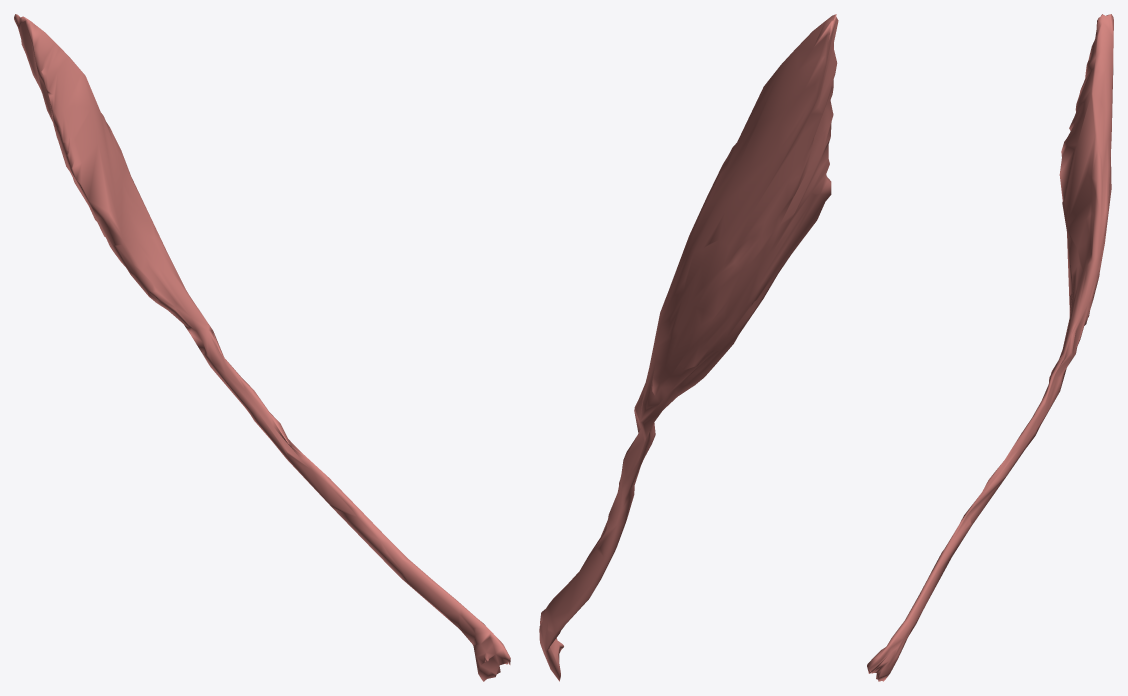
The picture shows the model from 3 angles, left to right: view 1: azimuth 30°, elevation 25°; view 2: azimuth 150°, elevation 25°; view 3: azimuth 270°, elevation 25°; orthographic projection. The views are drawn at different scales.
Parts seen in each view (by area): view 1: ZA_e83791cbf571673b; view 2: ZA_e83791cbf571673b; view 3: ZA_e83791cbf571673b.
Boxes of the visible parts, x1,y1,x2,y2 form: ZA_e83791cbf571673b: (14, 14, 510, 681); ZA_e83791cbf571673b: (539, 14, 838, 681); ZA_e83791cbf571673b: (867, 14, 1113, 681).
Size of the model in its own units: 0.079 by 0.1403 by 0.0586.
